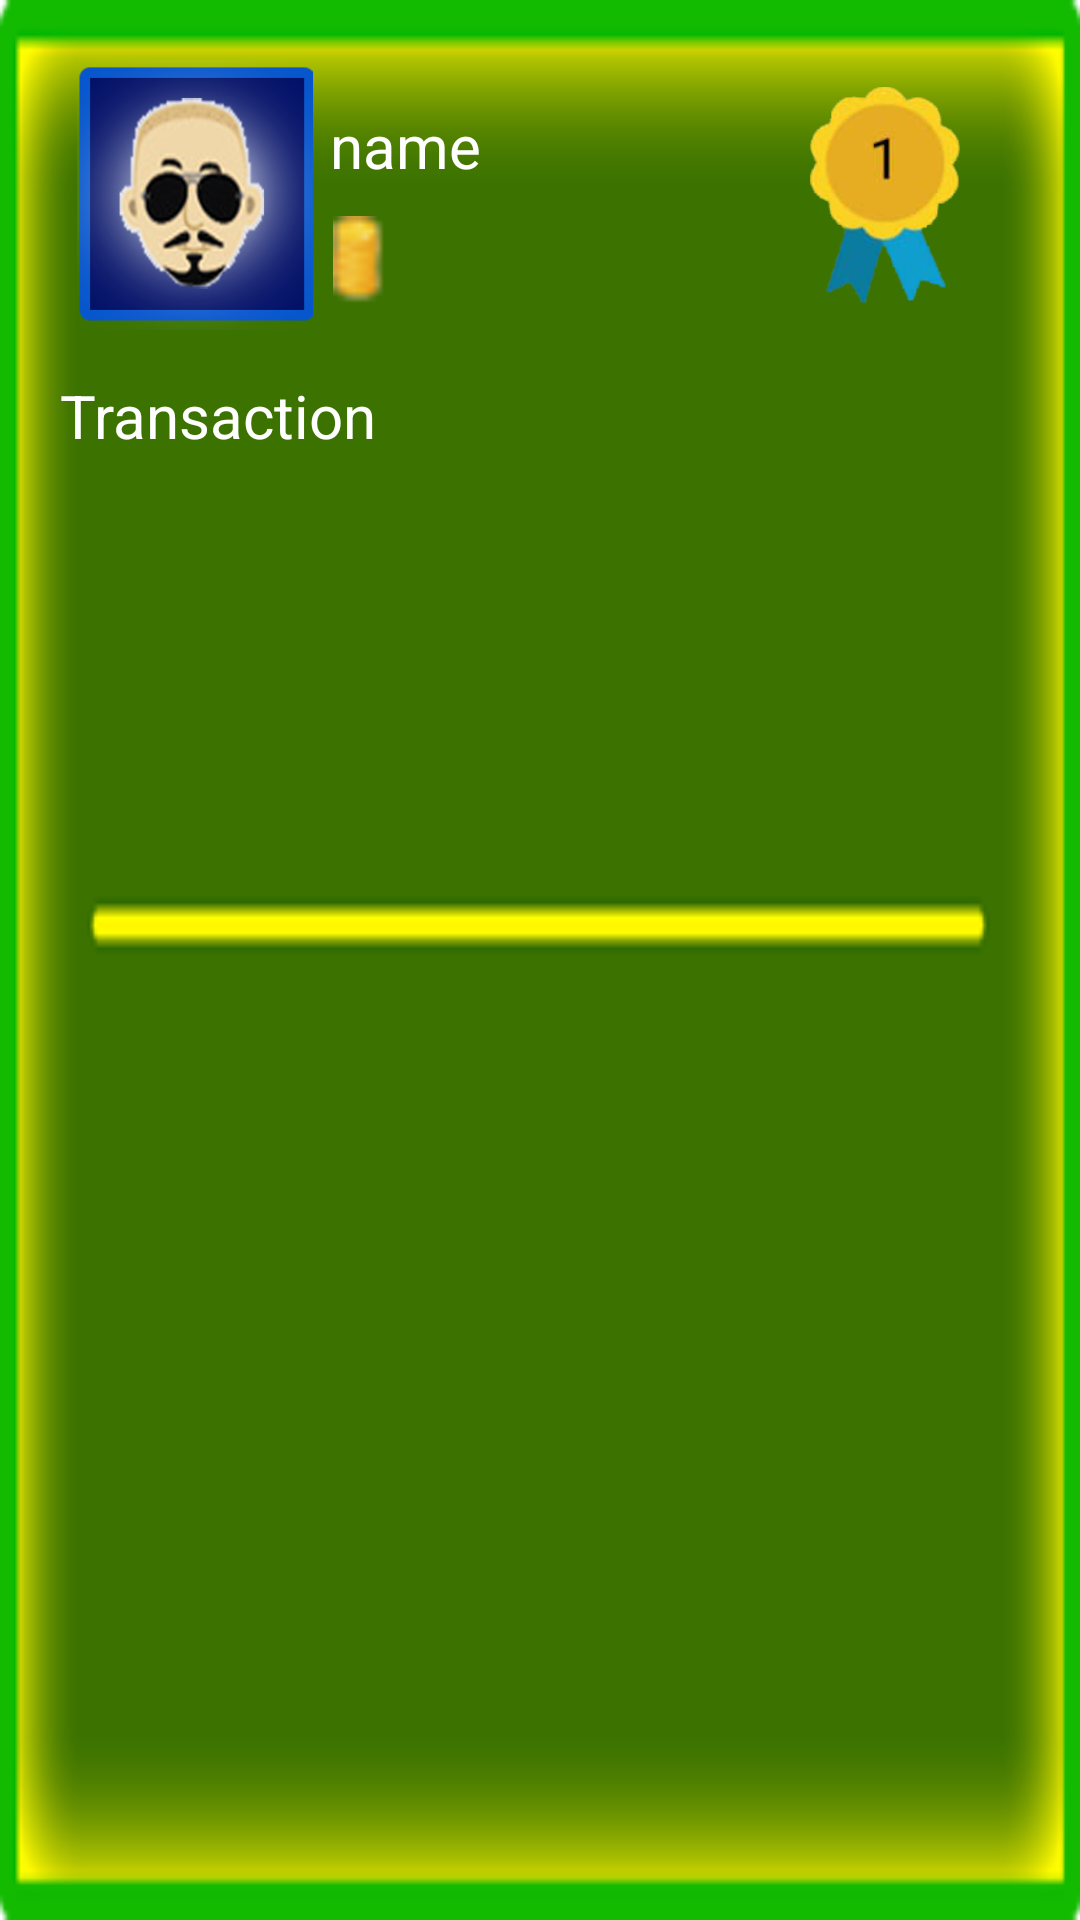

Screen size 1080x1920. Icon name, then its center in pixels as (x,y):
medal: (885,181)
